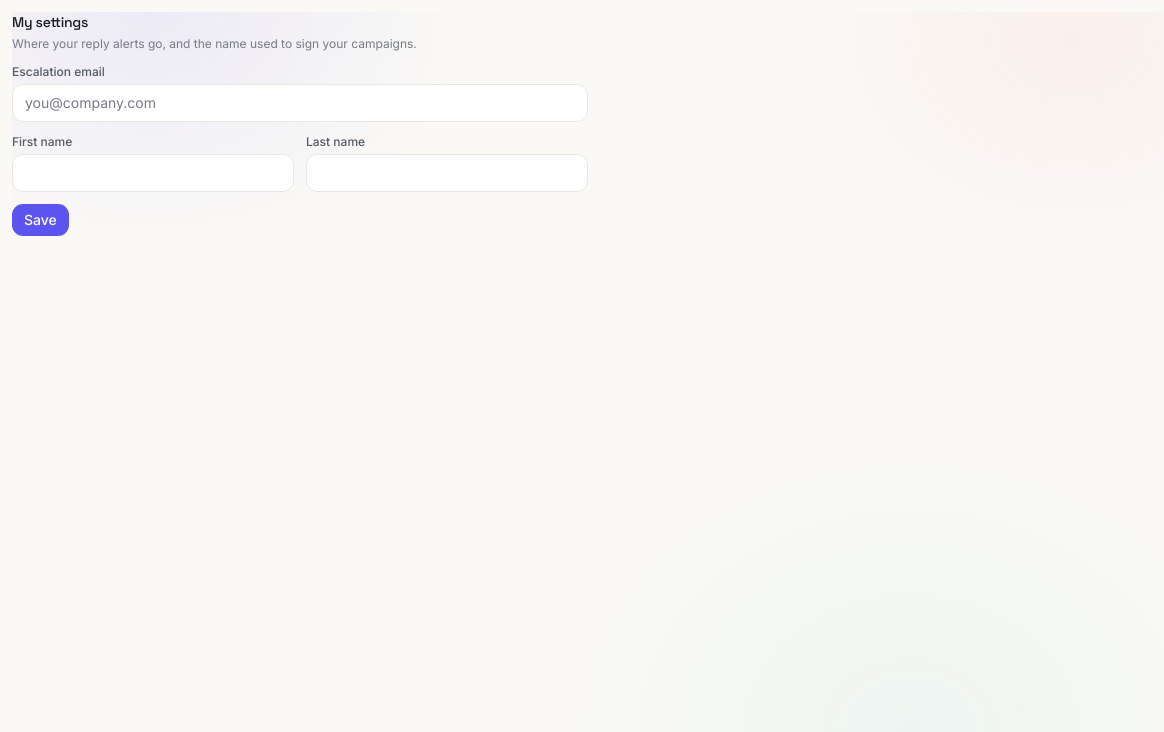
Scenario: MySettings › shows errors in role="alert"
Type "nope" into the field labelled "Escalation email" at (300, 103), box [12,84,588,122]
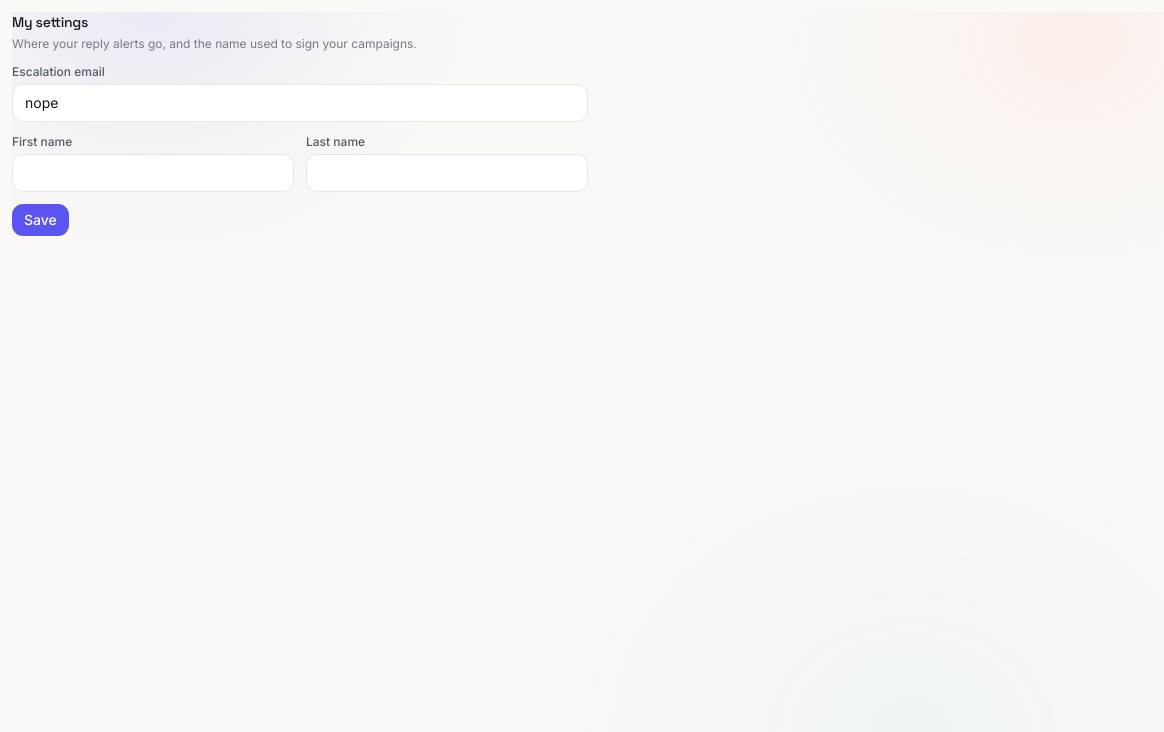
Submit the form labelled "Escalation email", box [12,64,588,236]
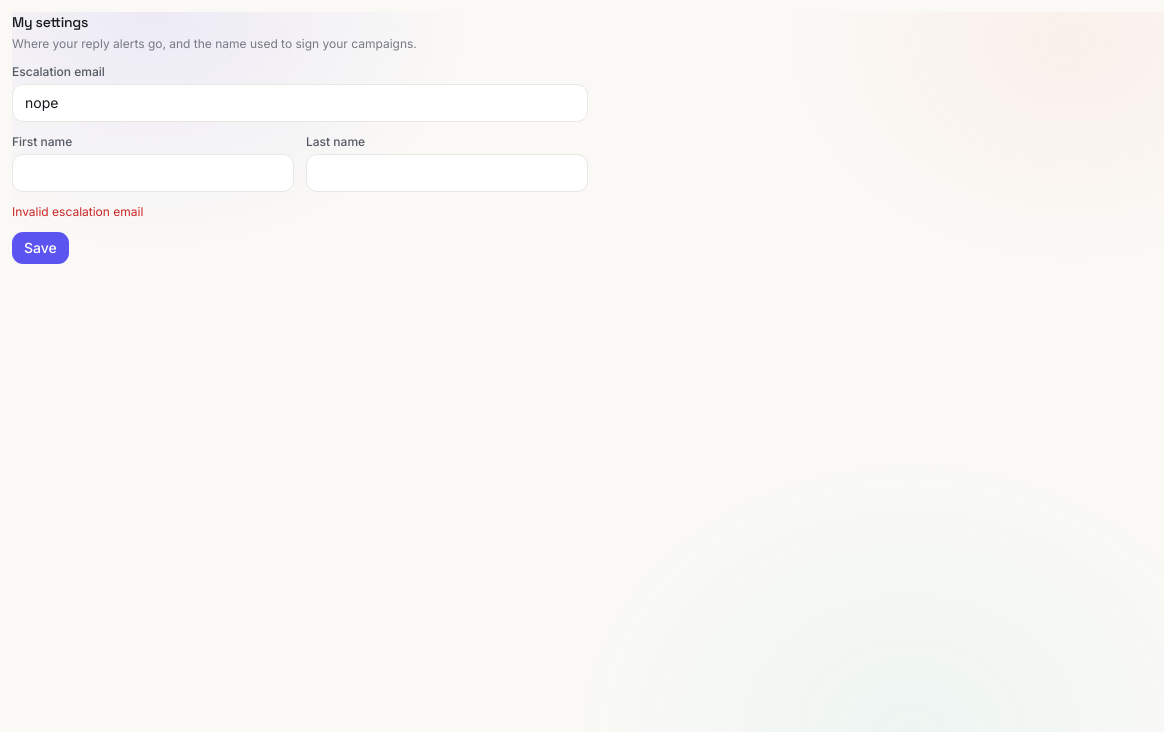
Check: the message reads "Invalid escalation email", box [12,204,143,219]
